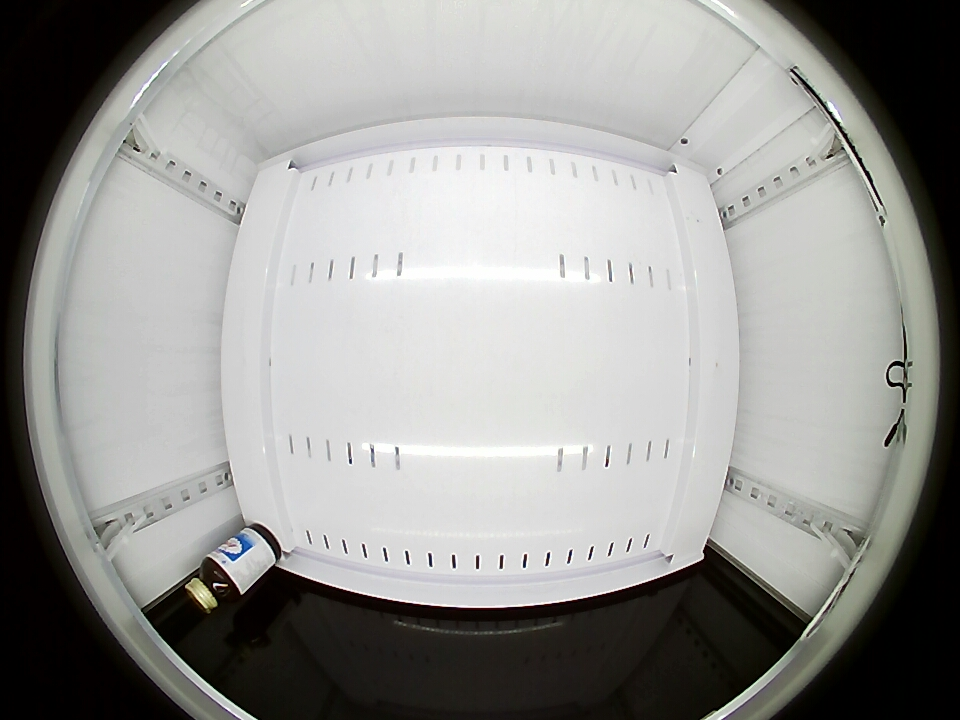libaojian: (185, 556, 241, 613)
